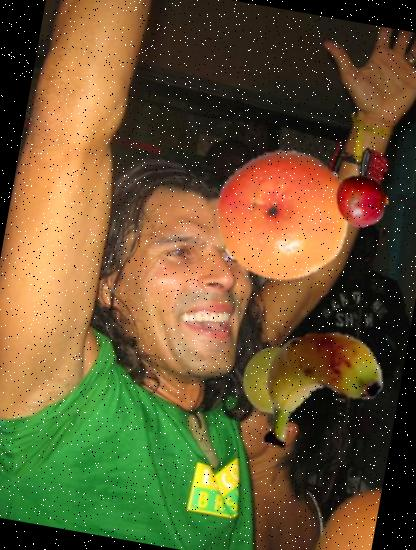Banana: (248, 316, 394, 462)
Grape: (235, 341, 315, 421)
Grapefruit: (205, 138, 361, 294)
Pomegranate: (331, 169, 394, 232)
